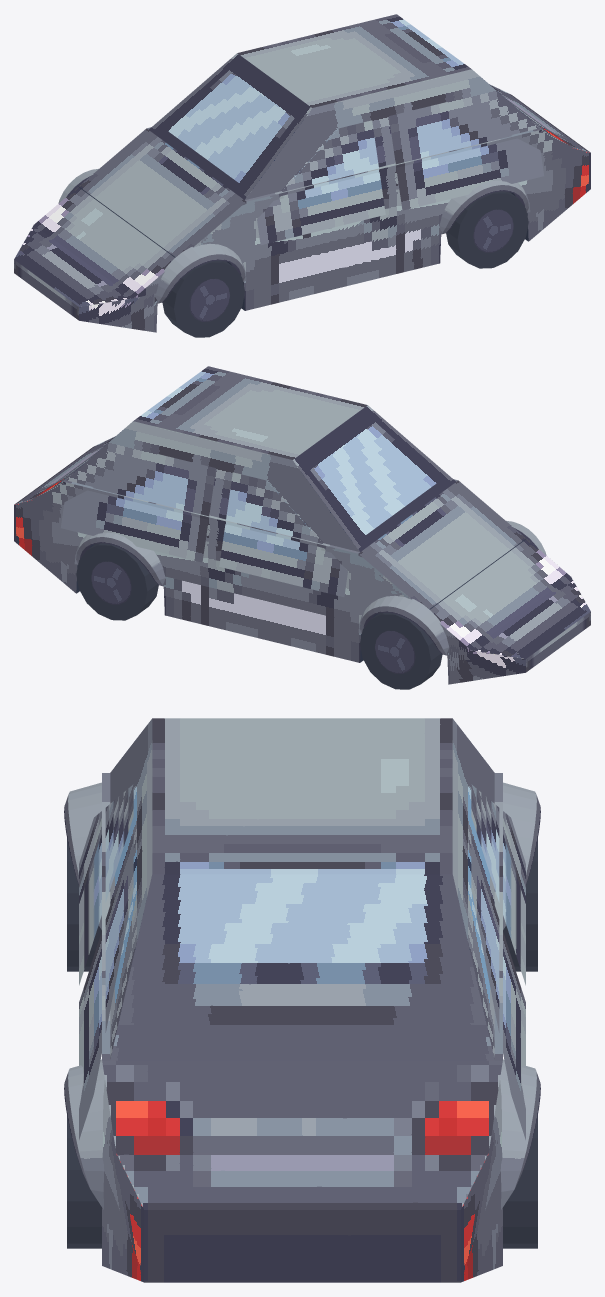
File: compact-6-v1.glb
3 views of the same model, one above another, from view 1: azimuth 30°, elevation 25°; view 2: azimuth 150°, elevation 25°; view 3: azimuth 270°, elevation 25° (orthographic). The views are drawn at different scales.
Parts seen in each view (by area): view 1: Body · left, Hood, Windshield, Roof, Window and frame · left · rear, Cabin · left, Window and frame · left · front, Tire · -17 · -1, Tire · 17 · -1, Raised fender · left · -17, Raised fender · left · 17, Hub · 17 · -1 (+4 smaller); view 2: Body · right, Hood, Windshield, Roof, Window and frame · right · rear, Cabin · right, Window and frame · right · front, Tire · -17 · 1, Tire · 17 · 1, Raised fender · right · -17, Raised fender · right · 17, Hub · 17 · 1 (+4 smaller); view 3: Rear windshield, Rear hatch, Roof, Rear fascia, Cabin · left, Cabin · right, Window and frame · left · rear, Window and frame · right · rear, Body · left, Body · right, Window and frame · left · front, Window and frame · right · front (+9 smaller).
Boxes of the visible parts, bbox=[...] form: Body · left: bbox=[79, 129, 590, 332]; Hood: bbox=[14, 128, 246, 306]; Windshield: bbox=[149, 53, 311, 199]; Roof: bbox=[237, 14, 471, 107]; Window and frame · left · rear: bbox=[389, 102, 543, 210]; Cabin · left: bbox=[245, 69, 539, 199]; Window and frame · left · front: bbox=[257, 120, 385, 244]; Tire · -17 · -1: bbox=[162, 260, 244, 337]; Tire · 17 · -1: bbox=[446, 191, 528, 268]; Raised fender · left · -17: bbox=[153, 243, 246, 304]; Raised fender · left · 17: bbox=[439, 180, 530, 234]; Hub · 17 · -1: bbox=[473, 209, 513, 252]; Body · right: bbox=[14, 481, 525, 684]; Hood: bbox=[358, 480, 590, 658]; Windshield: bbox=[293, 405, 455, 551]; Roof: bbox=[133, 366, 367, 459]; Window and frame · right · rear: bbox=[61, 454, 215, 562]; Cabin · right: bbox=[65, 421, 359, 551]; Window and frame · right · front: bbox=[219, 472, 347, 596]; Tire · -17 · 1: bbox=[360, 612, 442, 689]; Tire · 17 · 1: bbox=[76, 543, 158, 620]; Raised fender · right · -17: bbox=[358, 595, 449, 655]; Raised fender · right · 17: bbox=[74, 532, 165, 586]; Hub · 17 · 1: bbox=[91, 561, 131, 604]; Rear windshield: bbox=[110, 874, 494, 1060]; Rear hatch: bbox=[102, 1060, 502, 1209]; Roof: bbox=[152, 718, 452, 874]; Rear fascia: bbox=[144, 1210, 460, 1282]; Cabin · left: bbox=[110, 718, 152, 1058]; Cabin · right: bbox=[452, 718, 494, 1058]; Window and frame · left · rear: bbox=[79, 833, 133, 1139]; Window and frame · right · rear: bbox=[471, 833, 525, 1139]; Body · left: bbox=[102, 1061, 144, 1282]; Body · right: bbox=[460, 1061, 502, 1282]; Window and frame · left · front: bbox=[79, 784, 133, 985]; Window and frame · right · front: bbox=[471, 784, 525, 985].
Size of the model in its own units: 58.2 by 20.2 by 23.8.
1 material, 1 textured.
